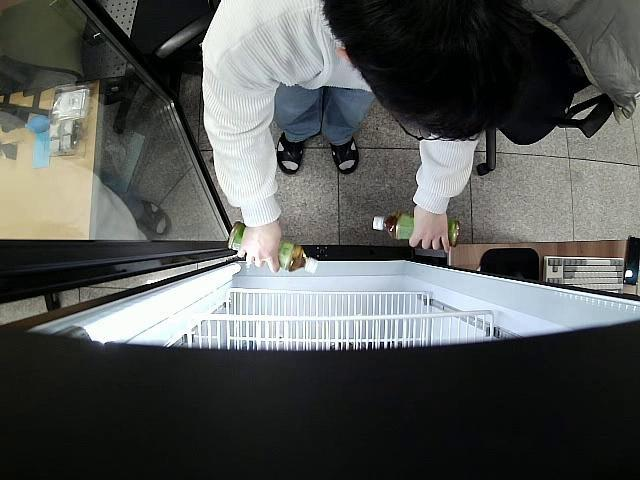19_17cha: (227, 221, 319, 275), (372, 210, 459, 251)
